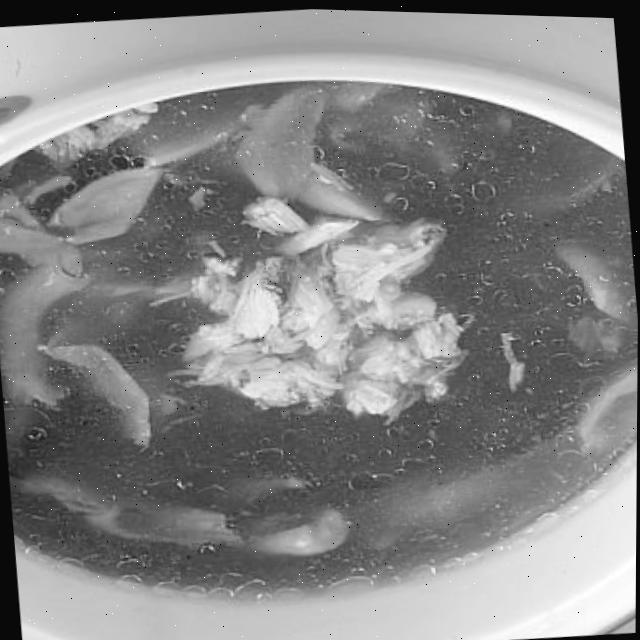汤锅炖物: (0, 30, 640, 640)
